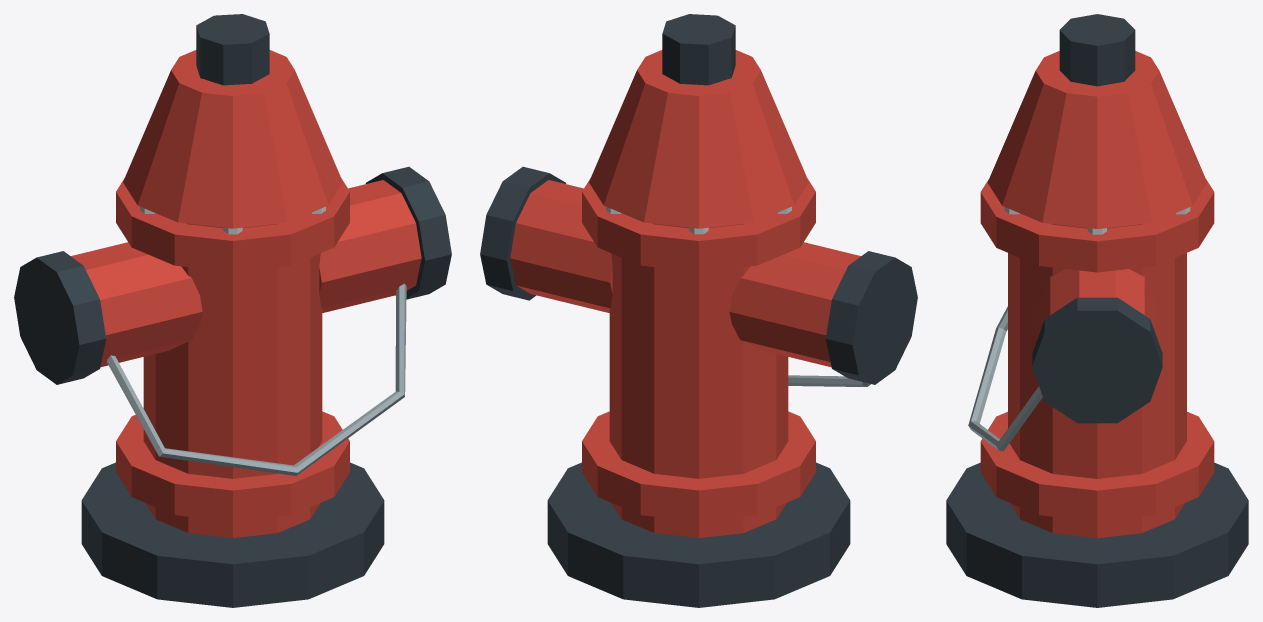
The model's file is Fire_Hydrant.glb.
The picture shows the model from 3 angles, left to right: view 1: azimuth 30°, elevation 25°; view 2: azimuth 150°, elevation 25°; view 3: azimuth 270°, elevation 25°; orthographic projection.
Parts seen in each view (by area): view 1: Fire_Hydrant; view 2: Fire_Hydrant; view 3: Fire_Hydrant.
Part boxes in pixels (x1,y1,x2,y2): Fire_Hydrant: (14, 14, 451, 607); Fire_Hydrant: (480, 14, 917, 607); Fire_Hydrant: (946, 14, 1248, 607).
Bounding box in the file's own units: 0.625 × 0.825 × 0.44.
